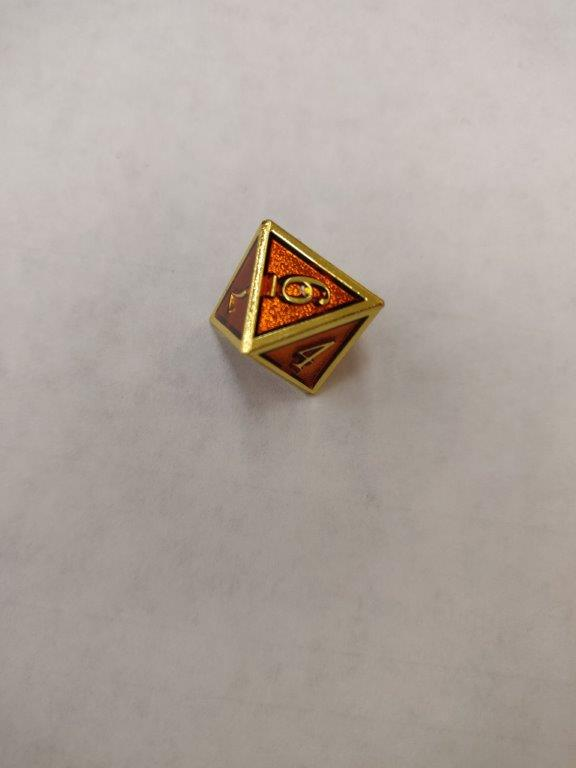d8-6: (209, 218, 387, 399)
